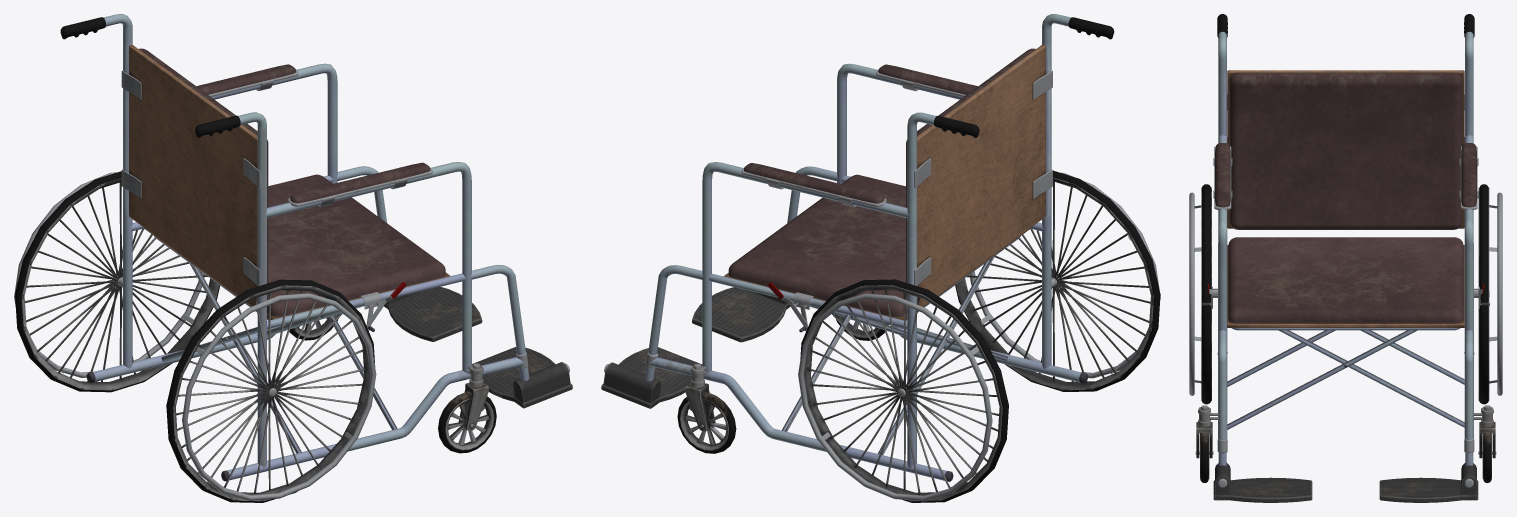
3 renders of one model, left to right at view 1: azimuth 30°, elevation 25°; view 2: azimuth 150°, elevation 25°; view 3: azimuth 270°, elevation 25°, orthographic. The views are drawn at different scales.
Parts seen in each view (by area): view 1: SupportsCoussins_low, Coussins_low, RayonsGrandesRoues_low, GrandesRoues_low, object 36, ArmatureDos_low_lambert1_0, PoigneesRoues_low, ArmatureAccoudoirs_low_lambert1_0, BaseRoues_low, coussinsAccoudoirs_low, Croisillons_low, object 26 (+7 smaller); view 2: SupportsCoussins_low, Coussins_low, RayonsGrandesRoues_low, GrandesRoues_low, object 36, ArmatureDos_low_lambert1_0, PoigneesRoues_low, ArmatureAccoudoirs_low_lambert1_0, BaseRoues_low, coussinsAccoudoirs_low, Croisillons_low, object 26 (+7 smaller); view 3: Coussins_low, object 36, GrandesRoues_low, Croisillons_low, ArmatureAccoudoirs_low_lambert1_0, SupportsCoussins_low, PoigneesRoues_low, object 26, coussinsAccoudoirs_low, ArmatureDos_low_lambert1_0, PetitesRoues_low, SupportCoussin_low (+4 smaller).
Boxes of the visible parts, x1=… form: SupportsCoussins_low: x1=129, y1=45, x2=450, y2=319; Coussins_low: x1=139, y1=48, x2=445, y2=316; RayonsGrandesRoues_low: x1=25, y1=182, x2=365, y2=493; GrandesRoues_low: x1=15, y1=171, x2=375, y2=502; object 36: x1=384, y1=287, x2=572, y2=408; ArmatureDos_low_lambert1_0: x1=103, y1=14, x2=266, y2=467; PoigneesRoues_low: x1=14, y1=172, x2=376, y2=500; ArmatureAccoudoirs_low_lambert1_0: x1=211, y1=63, x2=471, y2=374; BaseRoues_low: x1=93, y1=325, x2=523, y2=480; coussinsAccoudoirs_low: x1=196, y1=64, x2=430, y2=203; Croisillons_low: x1=161, y1=263, x2=397, y2=453; object 26: x1=336, y1=166, x2=529, y2=380; SupportsCoussins_low: x1=723, y1=45, x2=1045, y2=320; Coussins_low: x1=728, y1=48, x2=1035, y2=316; RayonsGrandesRoues_low: x1=808, y1=181, x2=1150, y2=495; GrandesRoues_low: x1=800, y1=170, x2=1160, y2=502; object 36: x1=601, y1=287, x2=790, y2=408; ArmatureDos_low_lambert1_0: x1=907, y1=14, x2=1070, y2=467; PoigneesRoues_low: x1=798, y1=172, x2=1160, y2=501; ArmatureAccoudoirs_low_lambert1_0: x1=702, y1=63, x2=962, y2=374; BaseRoues_low: x1=650, y1=326, x2=1081, y2=480; coussinsAccoudoirs_low: x1=744, y1=64, x2=977, y2=203; Croisillons_low: x1=781, y1=256, x2=1007, y2=454; object 26: x1=645, y1=166, x2=837, y2=381; Coussins_low: x1=1228, y1=73, x2=1463, y2=323; object 36: x1=1213, y1=463, x2=1478, y2=502; GrandesRoues_low: x1=1201, y1=184, x2=1489, y2=404; Croisillons_low: x1=1227, y1=330, x2=1464, y2=429; ArmatureAccoudoirs_low_lambert1_0: x1=1218, y1=135, x2=1473, y2=420; SupportsCoussins_low: x1=1227, y1=70, x2=1464, y2=327; PoigneesRoues_low: x1=1189, y1=192, x2=1502, y2=395; object 26: x1=1218, y1=330, x2=1473, y2=465; coussinsAccoudoirs_low: x1=1215, y1=143, x2=1476, y2=207; ArmatureDos_low_lambert1_0: x1=1218, y1=31, x2=1473, y2=136; PetitesRoues_low: x1=1200, y1=433, x2=1491, y2=482; SupportCoussin_low: x1=1231, y1=328, x2=1460, y2=330.
Bounding box in the file's own units: 94 × 82.39 × 66.44.
Materials: 1 (1 with a texture image).
